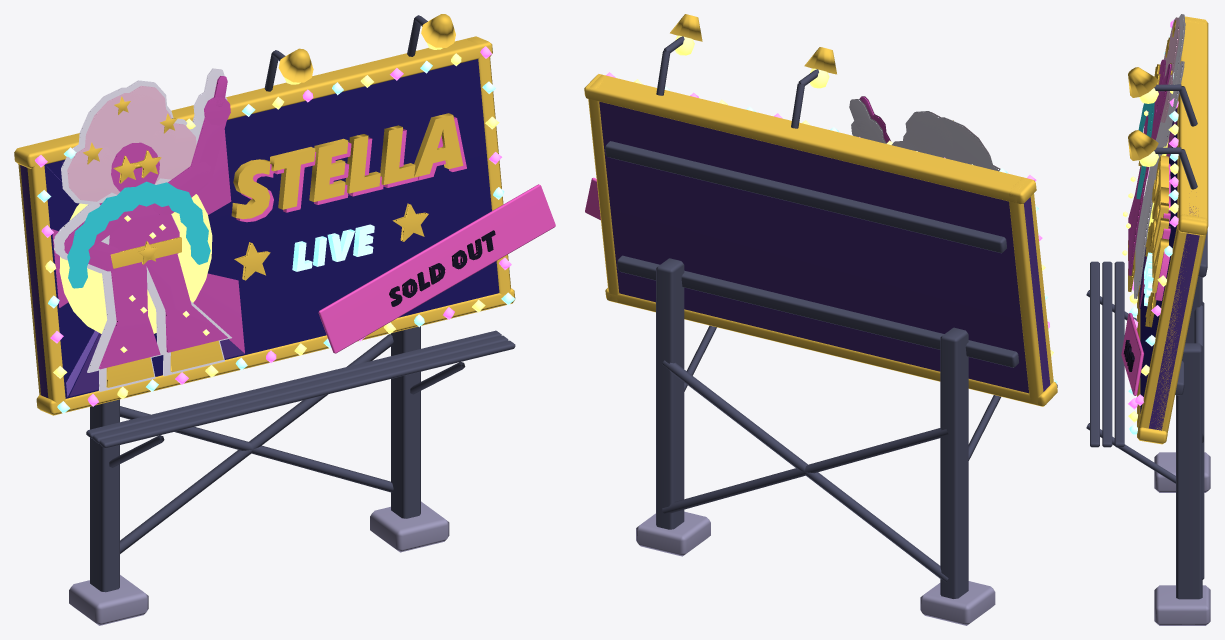
The model's file is billboard_stella.glb.
The picture shows the model from 3 angles, left to right: view 1: azimuth 30°, elevation 25°; view 2: azimuth 150°, elevation 25°; view 3: azimuth 270°, elevation 25°; orthographic projection. The views are drawn at different scales.
Parts seen in each view (by area): view 1: Billboard; view 2: Billboard; view 3: Billboard.
Part boxes in pixels (x1=…): Billboard: x1=14, y1=14, x2=555, y2=625; Billboard: x1=584, y1=14, x2=1057, y2=625; Billboard: x1=1086, y1=14, x2=1210, y2=625.
Size of the model in its own units: 3.18 by 3.26 by 0.7524.
